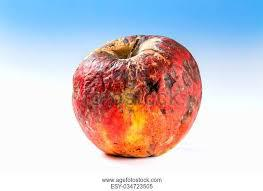damaged_apple: (73, 37, 201, 158)
